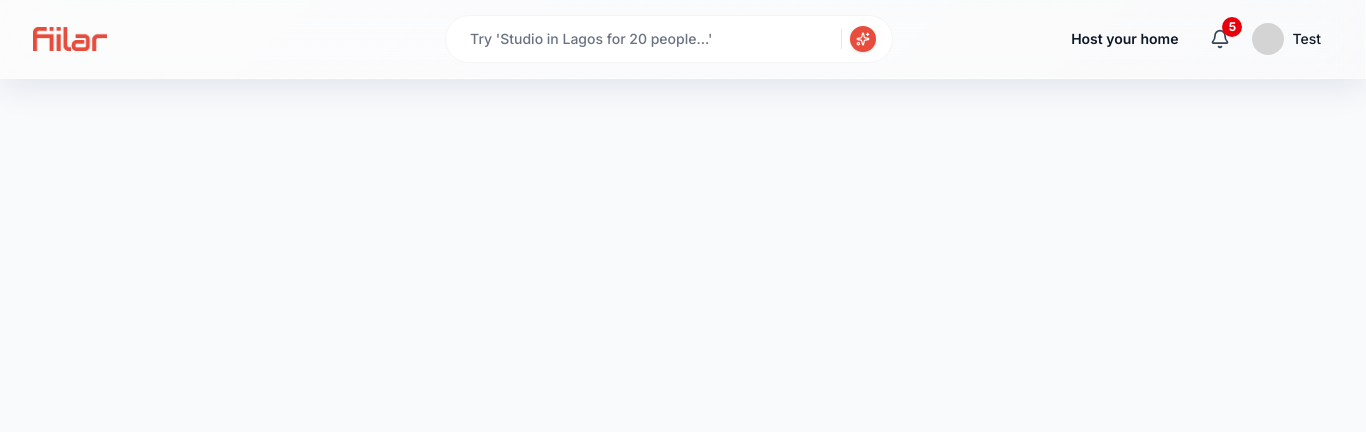
Test: Navbar › closes account menu on Escape key
Click the button with aria-label "account".
click(1290, 39)  # box [1246,17,1333,61]
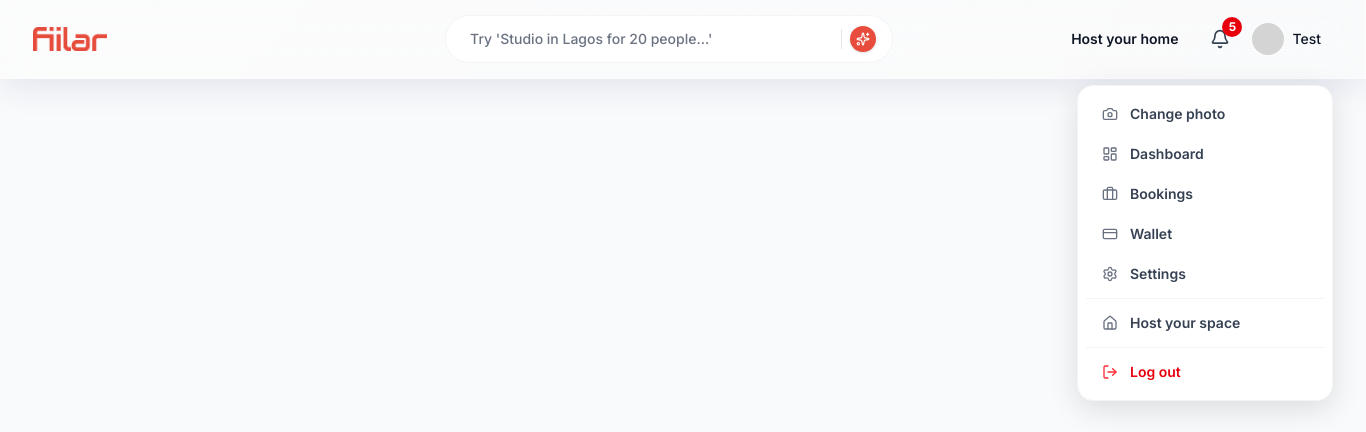
Expected: the button "Log out" is shown, [1086,352,1324,392]
Press Escape
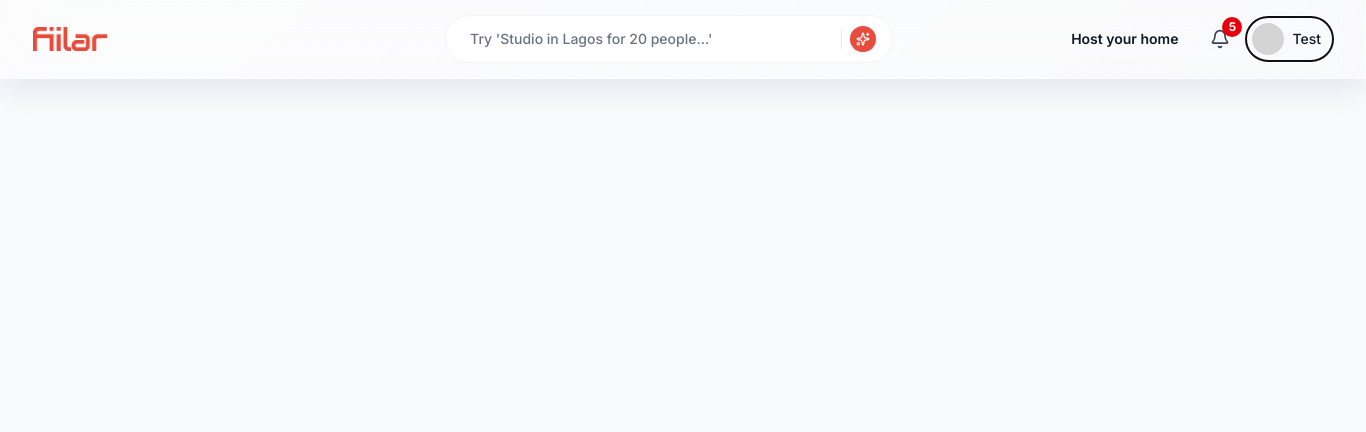
Expected: the button "Log out" is gone
